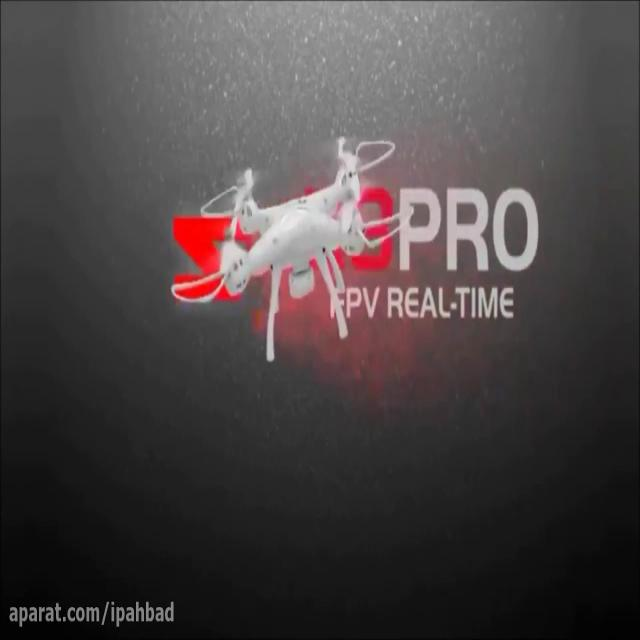drone: (169, 138, 413, 364)
